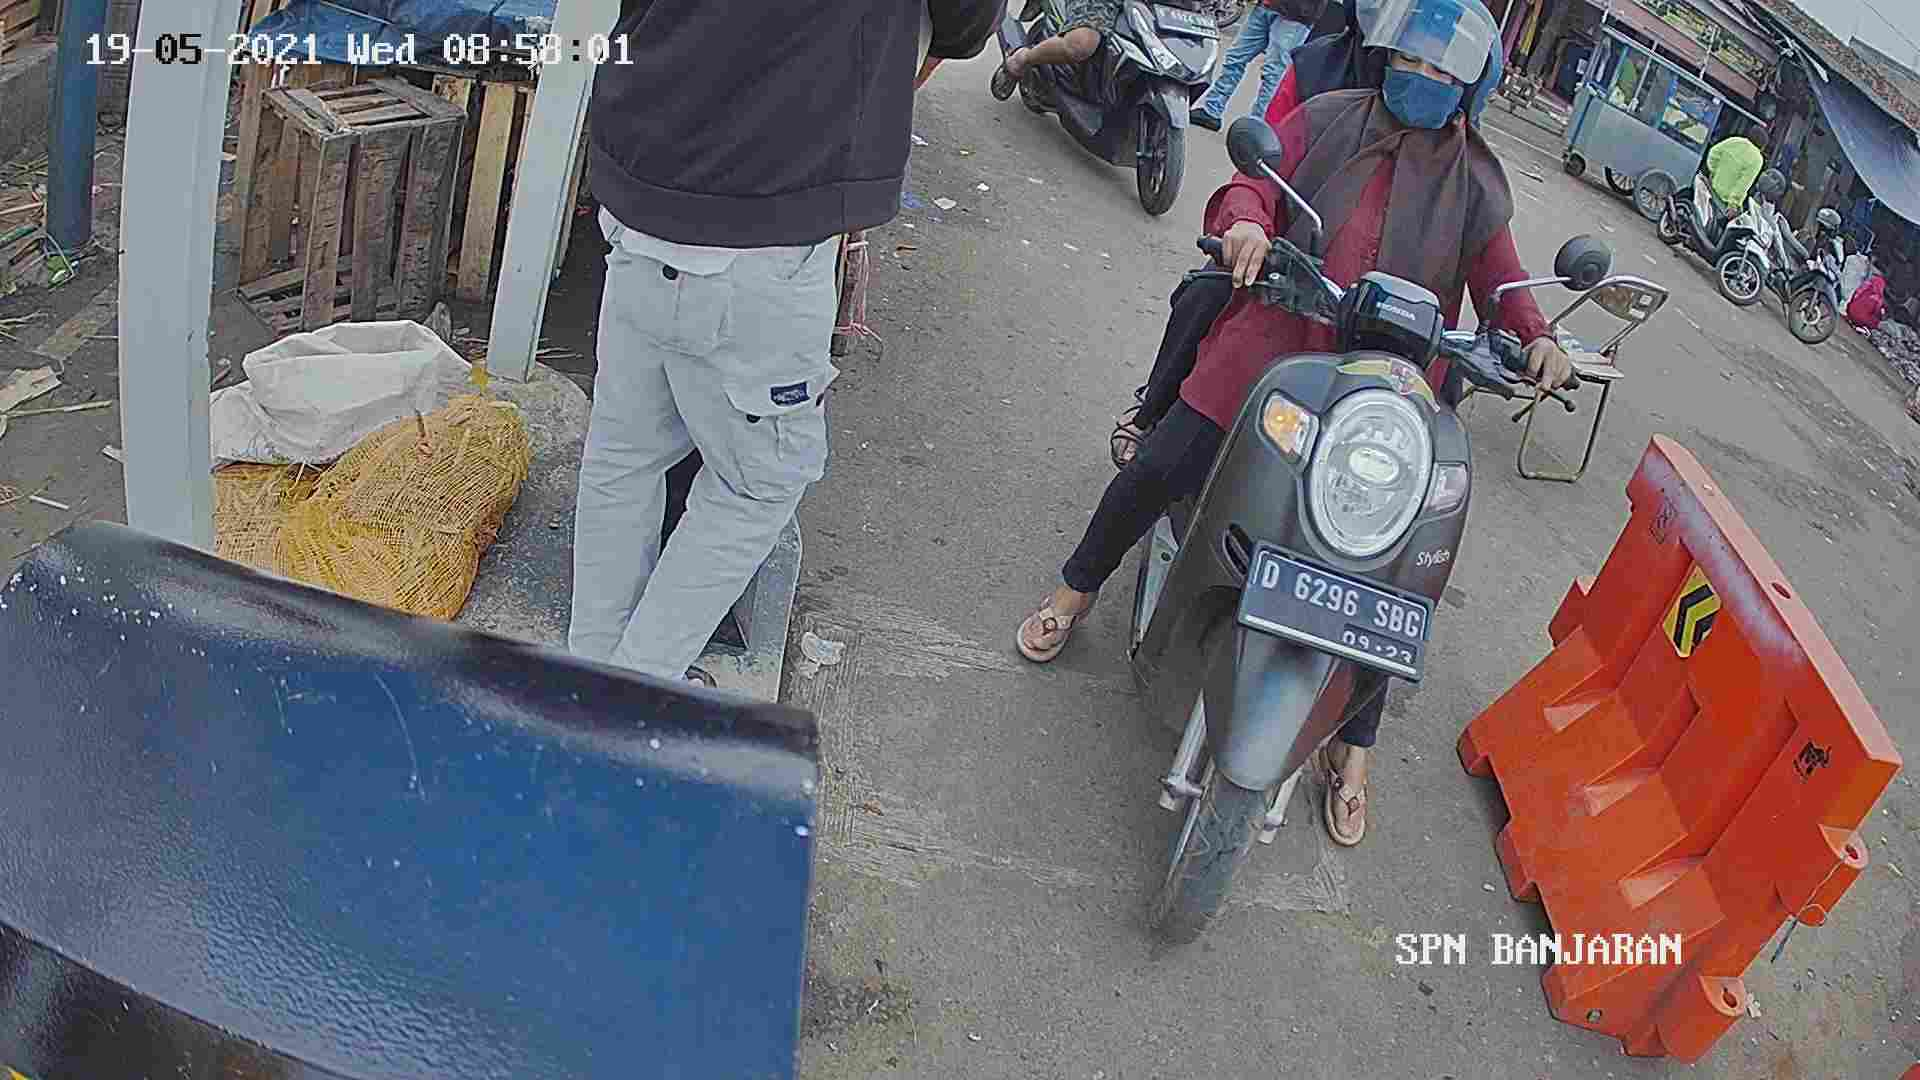motor: (1112, 253, 1511, 928)
